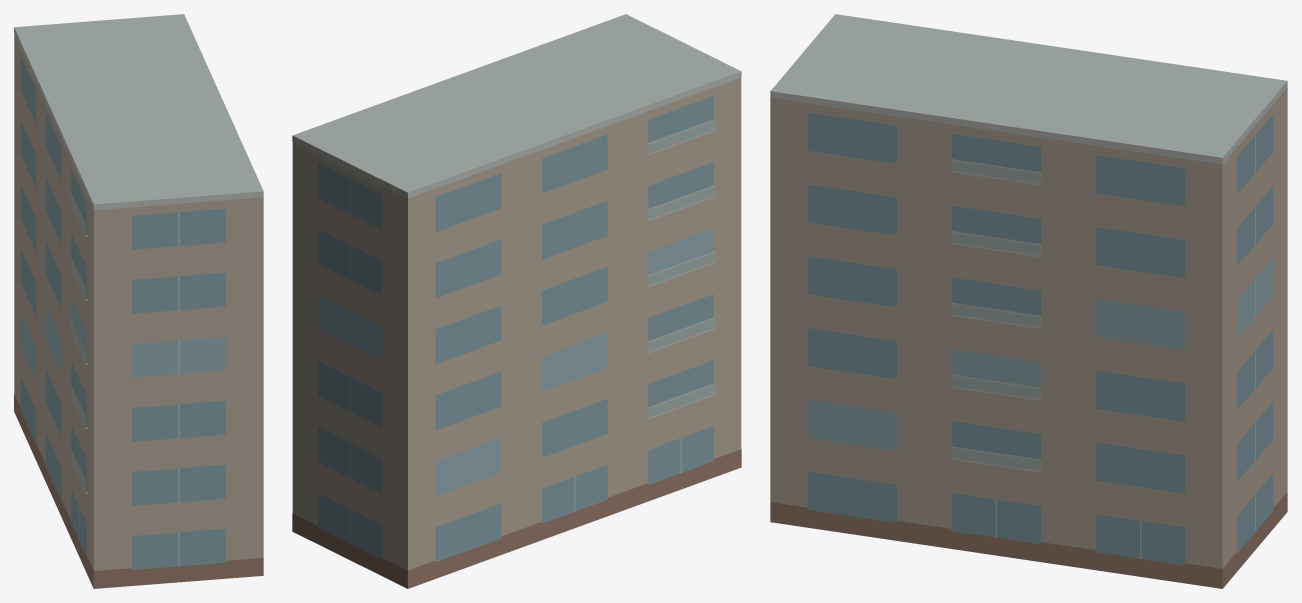
Rendered from survey-upis-32705376.glb.
3 renders of one model, left to right at view 1: azimuth 30°, elevation 25°; view 2: azimuth 150°, elevation 25°; view 3: azimuth 270°, elevation 25°, orthographic. The views are drawn at different scales.
Visible parts, largest first — view 1: survey-upis-32705376.tmp; view 2: survey-upis-32705376.tmp; view 3: survey-upis-32705376.tmp.
Boxes of the visible parts, x1=… form: survey-upis-32705376.tmp: x1=14, y1=14, x2=263, y2=588; survey-upis-32705376.tmp: x1=292, y1=14, x2=741, y2=588; survey-upis-32705376.tmp: x1=770, y1=14, x2=1287, y2=588.
Size of the model in its own units: 11.43 by 15.95 by 17.36.
